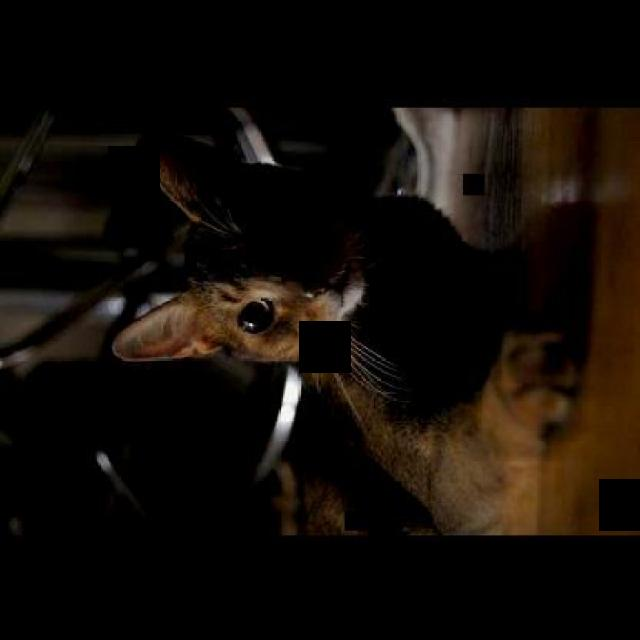unauthorized: (110, 127, 596, 536)
